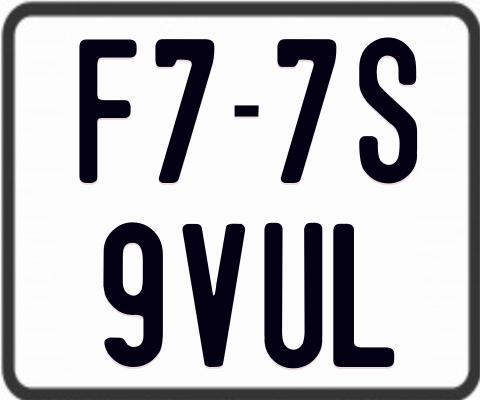7: (274, 39, 339, 189), (155, 38, 214, 182)
9: (101, 221, 162, 370)
F: (78, 36, 140, 185)
L: (331, 224, 394, 373)
S: (359, 37, 419, 186)
U: (263, 222, 326, 369)
V: (180, 222, 247, 370)
